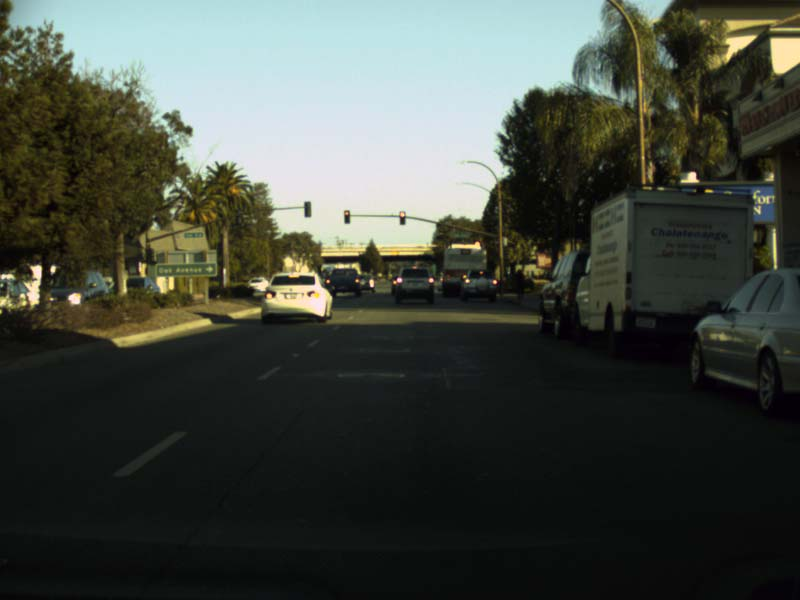Red: (398, 210, 406, 226), (343, 209, 350, 224), (474, 241, 480, 255)
